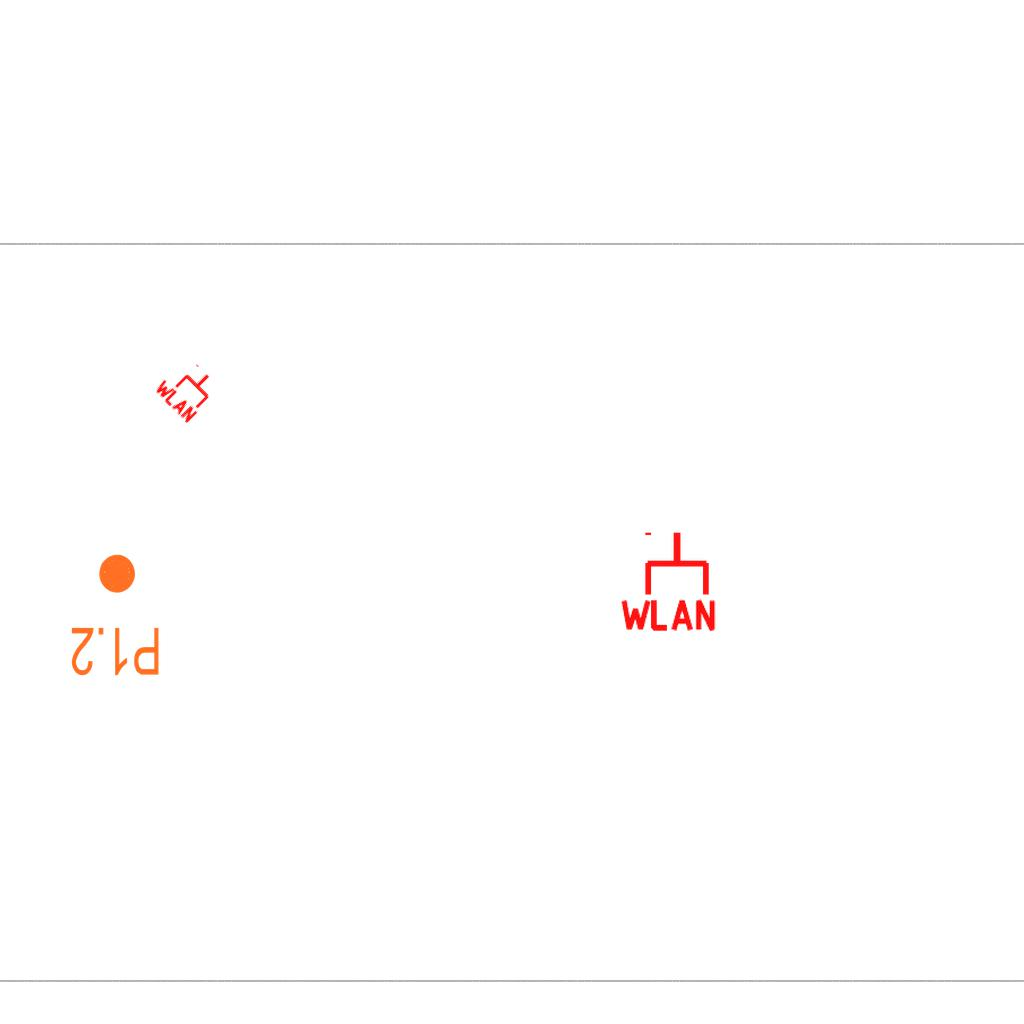Downlight_LED_Einbauleuchten_Flur: (69, 551, 162, 679)
WLAN: (616, 528, 720, 633), (151, 352, 225, 426)
